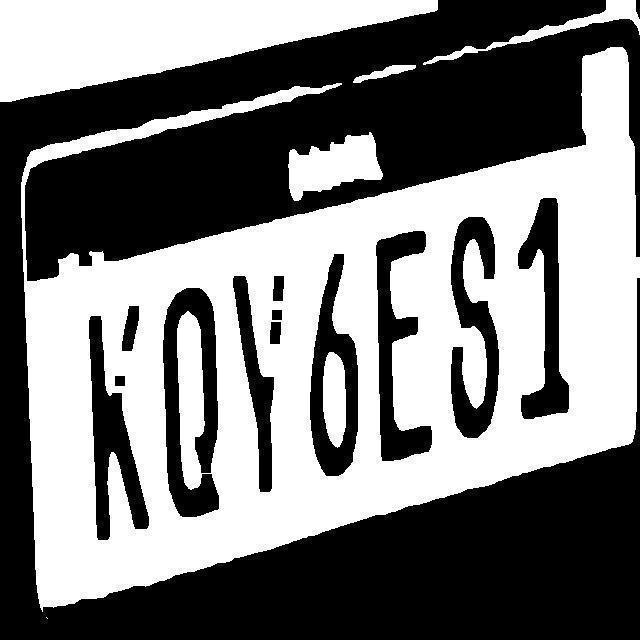1: (513, 194, 576, 435)
6: (300, 240, 364, 488)
8: (442, 210, 505, 447)
e: (369, 223, 437, 472)
k: (80, 301, 155, 546)
q: (159, 284, 227, 537)
y: (228, 272, 284, 492)
